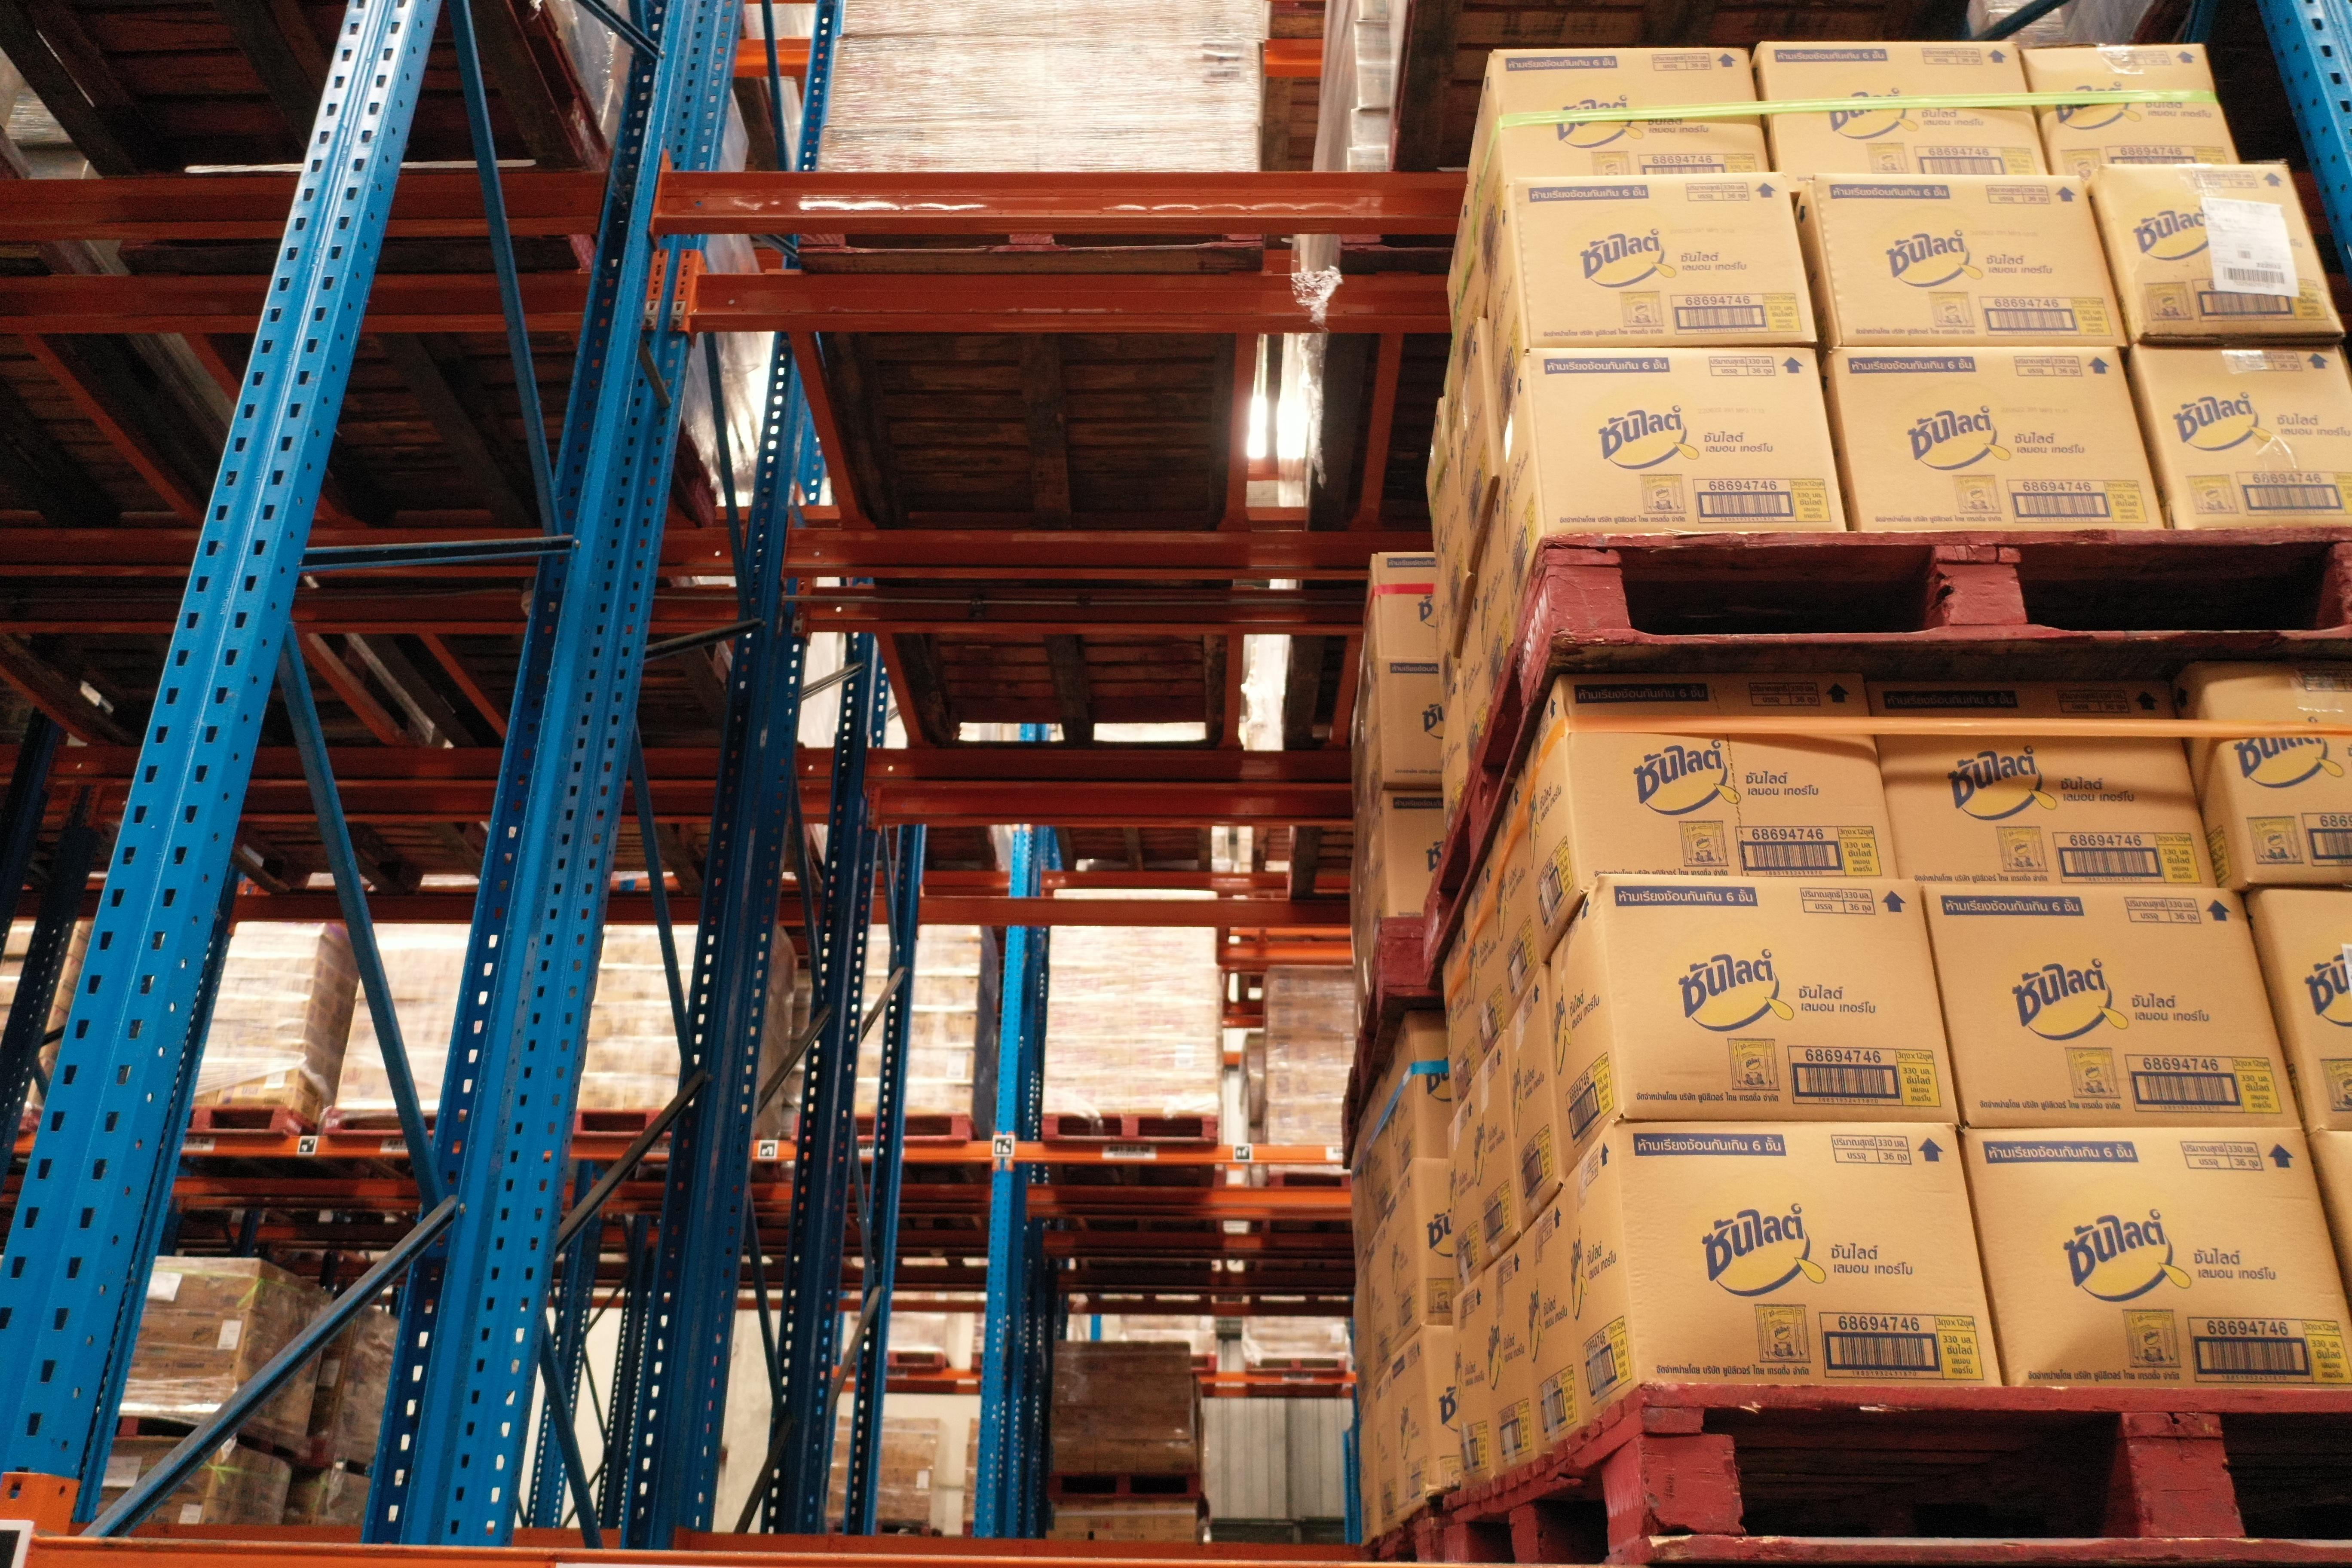-: (1612, 1118, 2004, 1388), (1962, 1123, 2352, 1393), (1916, 877, 2301, 1137), (1589, 877, 1962, 1130), (1865, 677, 2217, 887), (1556, 670, 1897, 884), (1827, 346, 2166, 534), (1524, 346, 1850, 541), (1508, 171, 1818, 355), (1809, 171, 2123, 348), (2091, 168, 2347, 346), (2126, 346, 2352, 528), (1755, 40, 2046, 173), (1491, 49, 1771, 185), (2187, 668, 2352, 887), (2019, 44, 2236, 168), (2254, 887, 2352, 1134)
